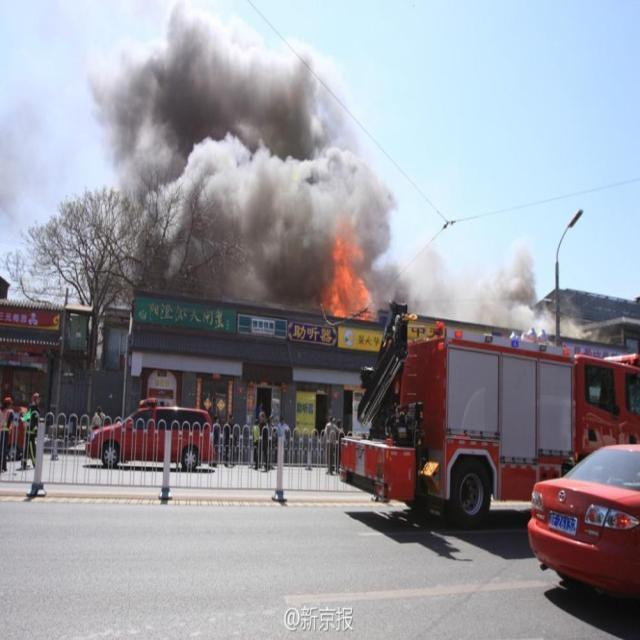Fire: (322, 234, 372, 324)
Smoke: (89, 1, 612, 342)
